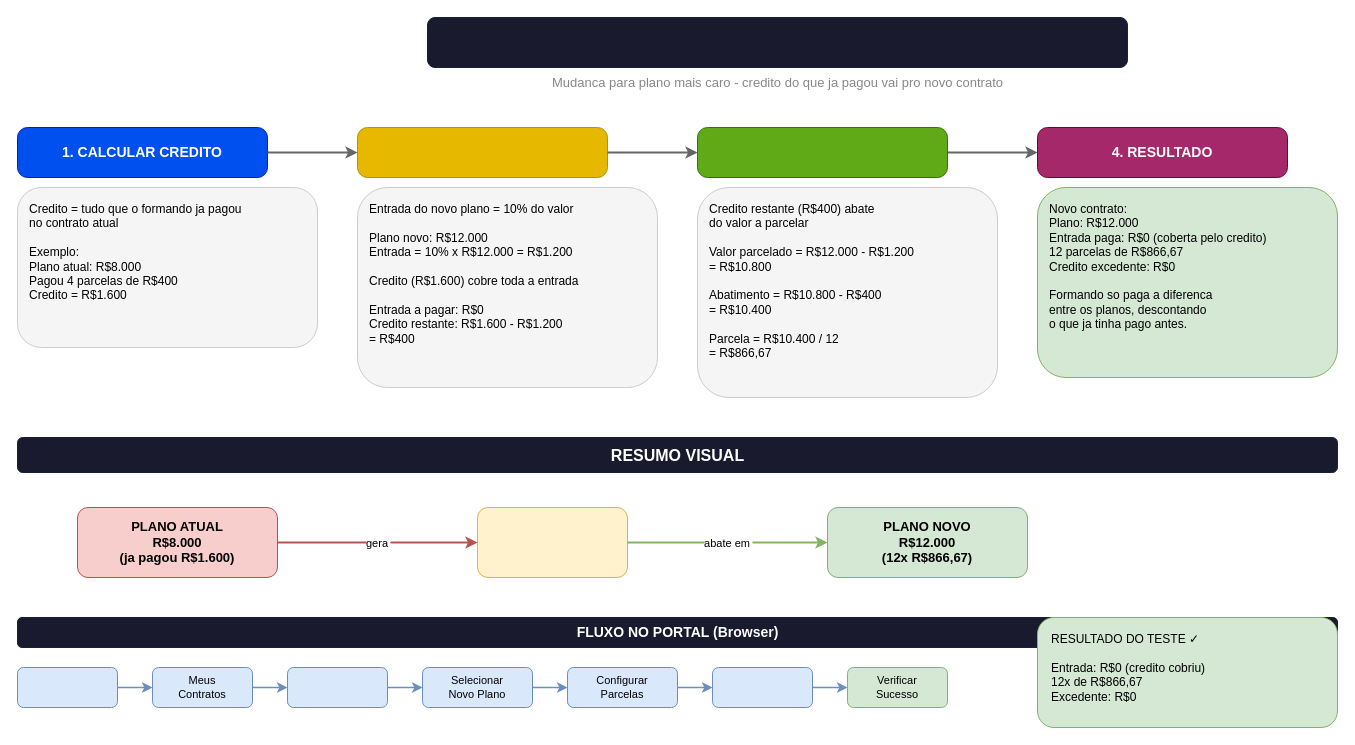
Image size: 1355x745. Some labels were removed from this diagram. Each missing label, with the box of its shape:
2. ABATER NA ENTRADA: (356, 126, 608, 178)
3. ABATER NAS PARCELAS: (696, 126, 948, 178)
Acoes > Upgrade: (286, 666, 388, 708)
Confirmar: (712, 666, 812, 708)
CREDITO R$1.600: (476, 506, 628, 578)
Login: (16, 666, 118, 708)
UPGRADE DE PLANO: (426, 16, 1128, 68)
